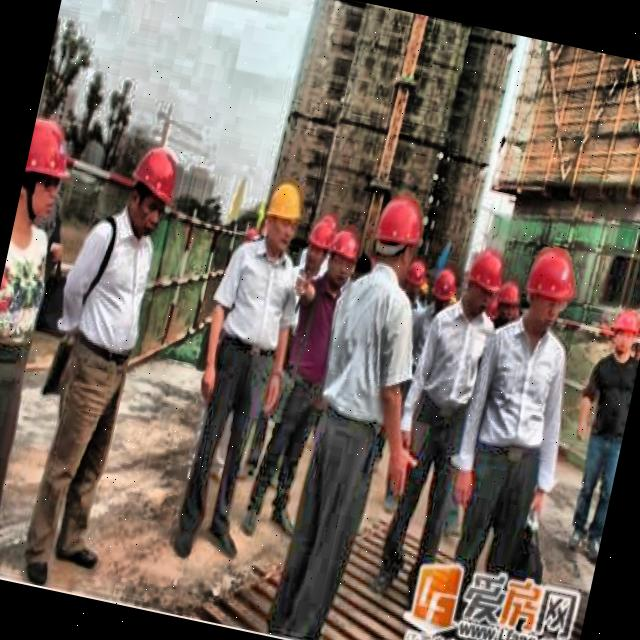helmet: (14, 108, 82, 236), (117, 138, 185, 240), (514, 242, 582, 338), (364, 188, 431, 284), (256, 175, 310, 258), (455, 244, 506, 319), (318, 221, 367, 292), (482, 273, 528, 338), (298, 209, 338, 278), (423, 258, 464, 322), (601, 304, 640, 365), (398, 253, 432, 308)
